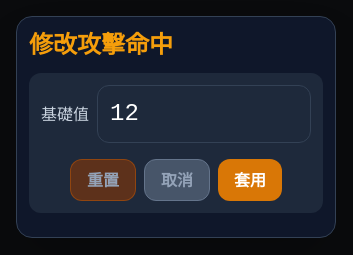
Test case: CombatStatEditModal › 傳入 resetBasicValue 時點擊重置後輸入框為該值
Type "99" into the field with placeholder "12".
click(204, 114); type("99")  # box [97,85,311,143]
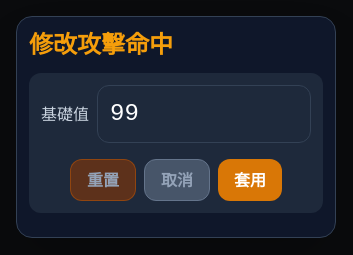
Click the button "重置".
click(103, 180)  # box [70,159,136,201]
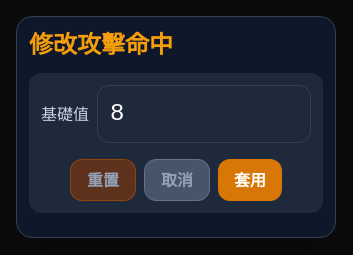
Check: the field with placeholder "12" holds "8", box [97,85,311,143]
